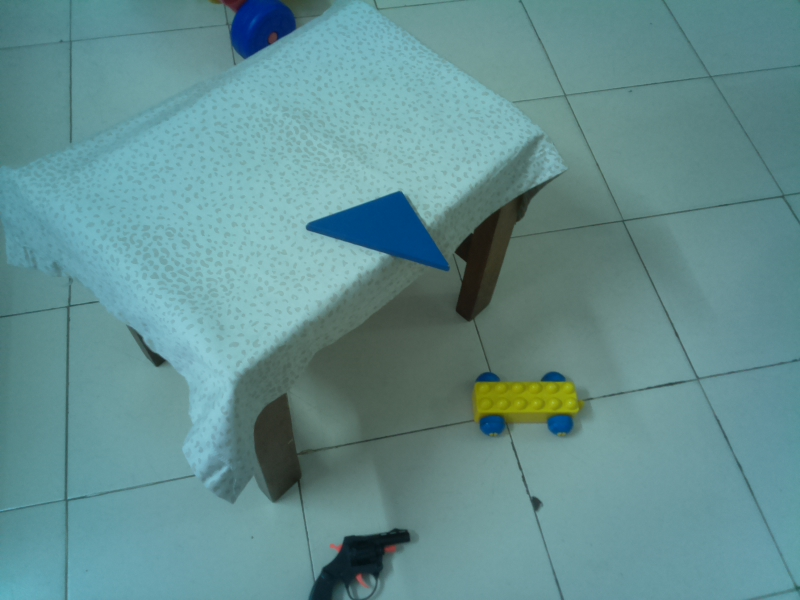Gun: (308, 527, 412, 596)
Triangle: (305, 190, 453, 275)
toy_Car: (470, 369, 580, 438)
